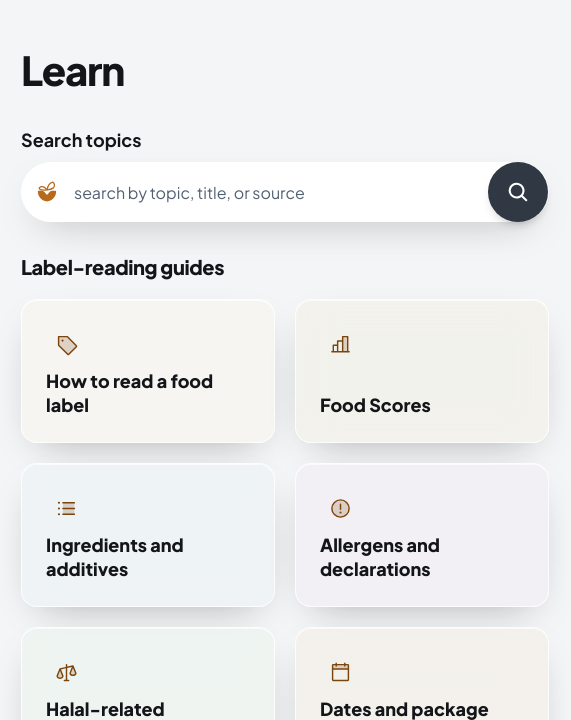
Test: LearnPage › filters articles by search term
The image size is (571, 720).
Type "allergen" into the search field with placeholder "search by topic, title, or source". click: (271, 192)
box: [74, 163, 468, 221]
(page scrolled)
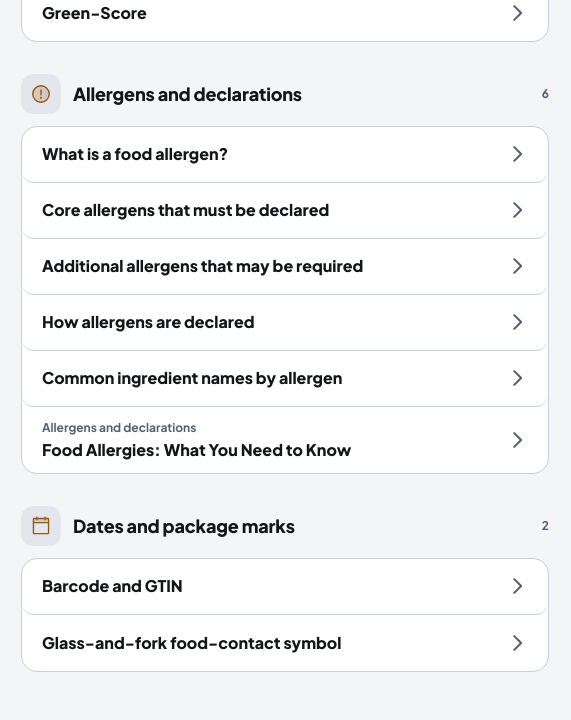
Expected: the text "Food Allergies: What You Need to Know" is shown, [42, 439, 351, 460]
